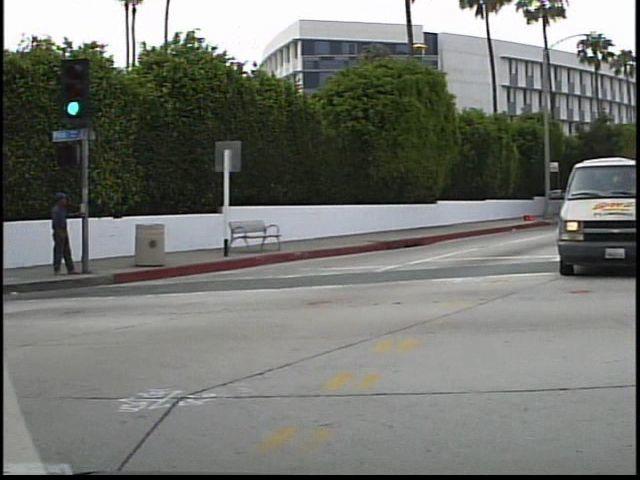person: (45, 191, 79, 281)
